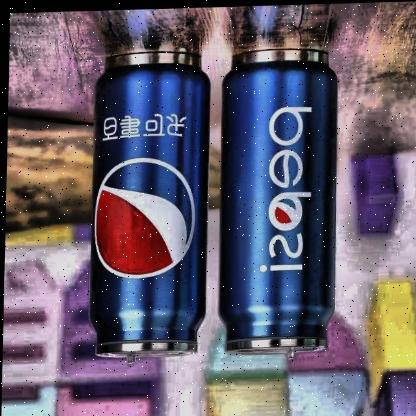Can: (89, 49, 211, 357), (218, 47, 336, 355)
